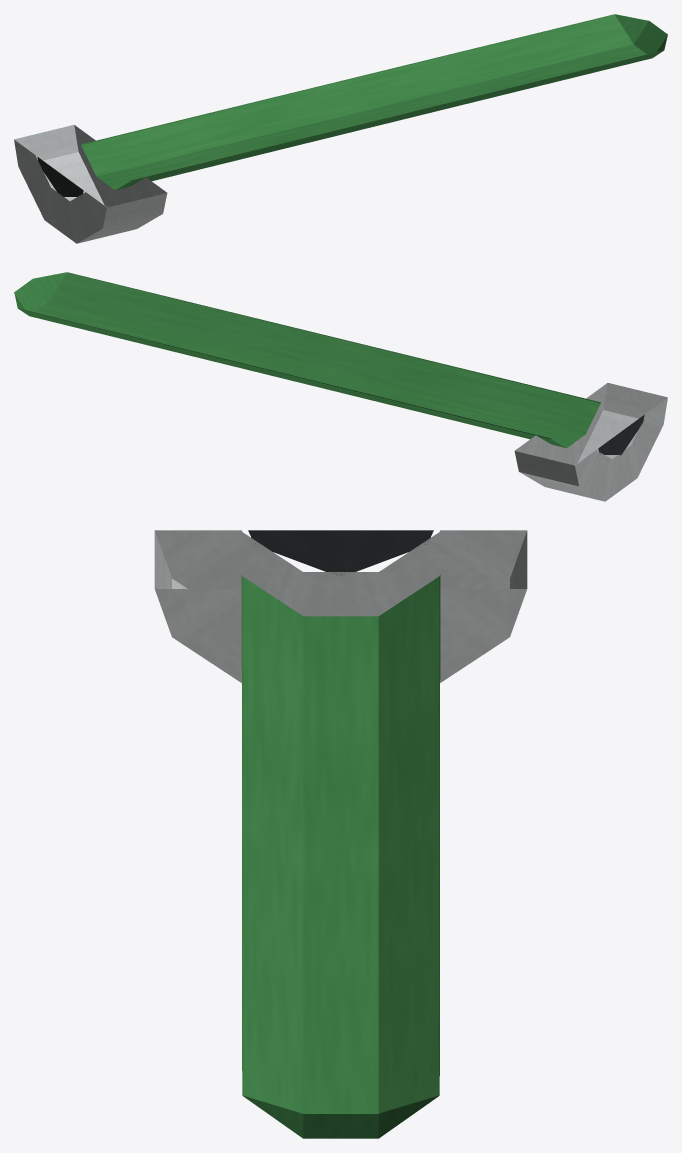
File: cell_130.obj
3 renders of one model, top to bottom at view 1: azimuth 30°, elevation 25°; view 2: azimuth 150°, elevation 25°; view 3: azimuth 270°, elevation 25°, orthographic. The views are drawn at different scales.
Size of the model in its own units: 0.7932 by 0.0741 by 0.214.
